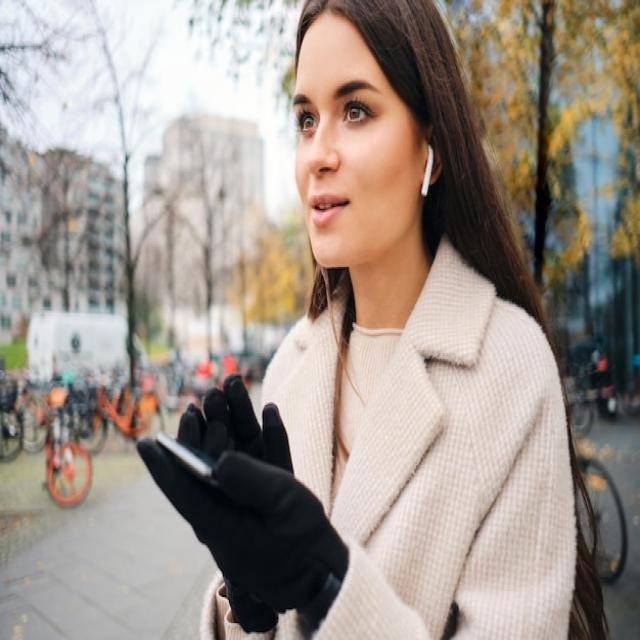airpods: (419, 141, 436, 200)
